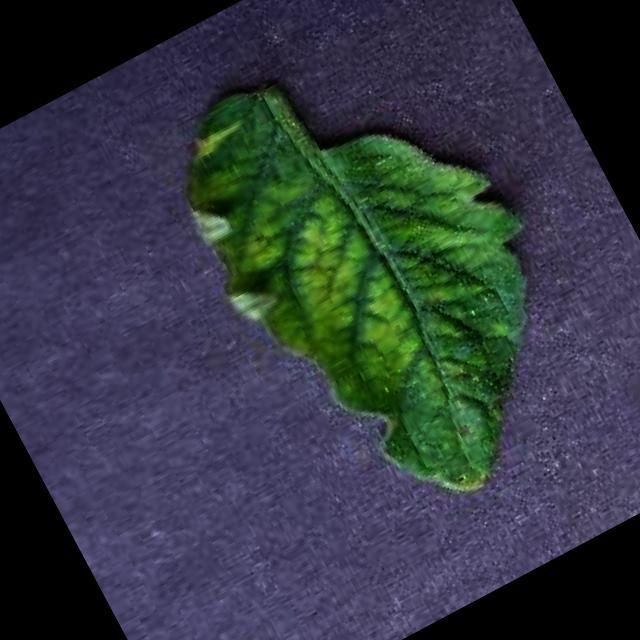Tomato mosaic virus leaf: (142, 0, 625, 554)
